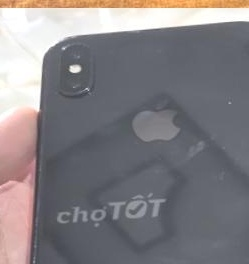scratch: (187, 125, 249, 264), (11, 157, 59, 264), (197, 85, 245, 116), (75, 35, 107, 65), (76, 76, 107, 105), (141, 37, 171, 56)
